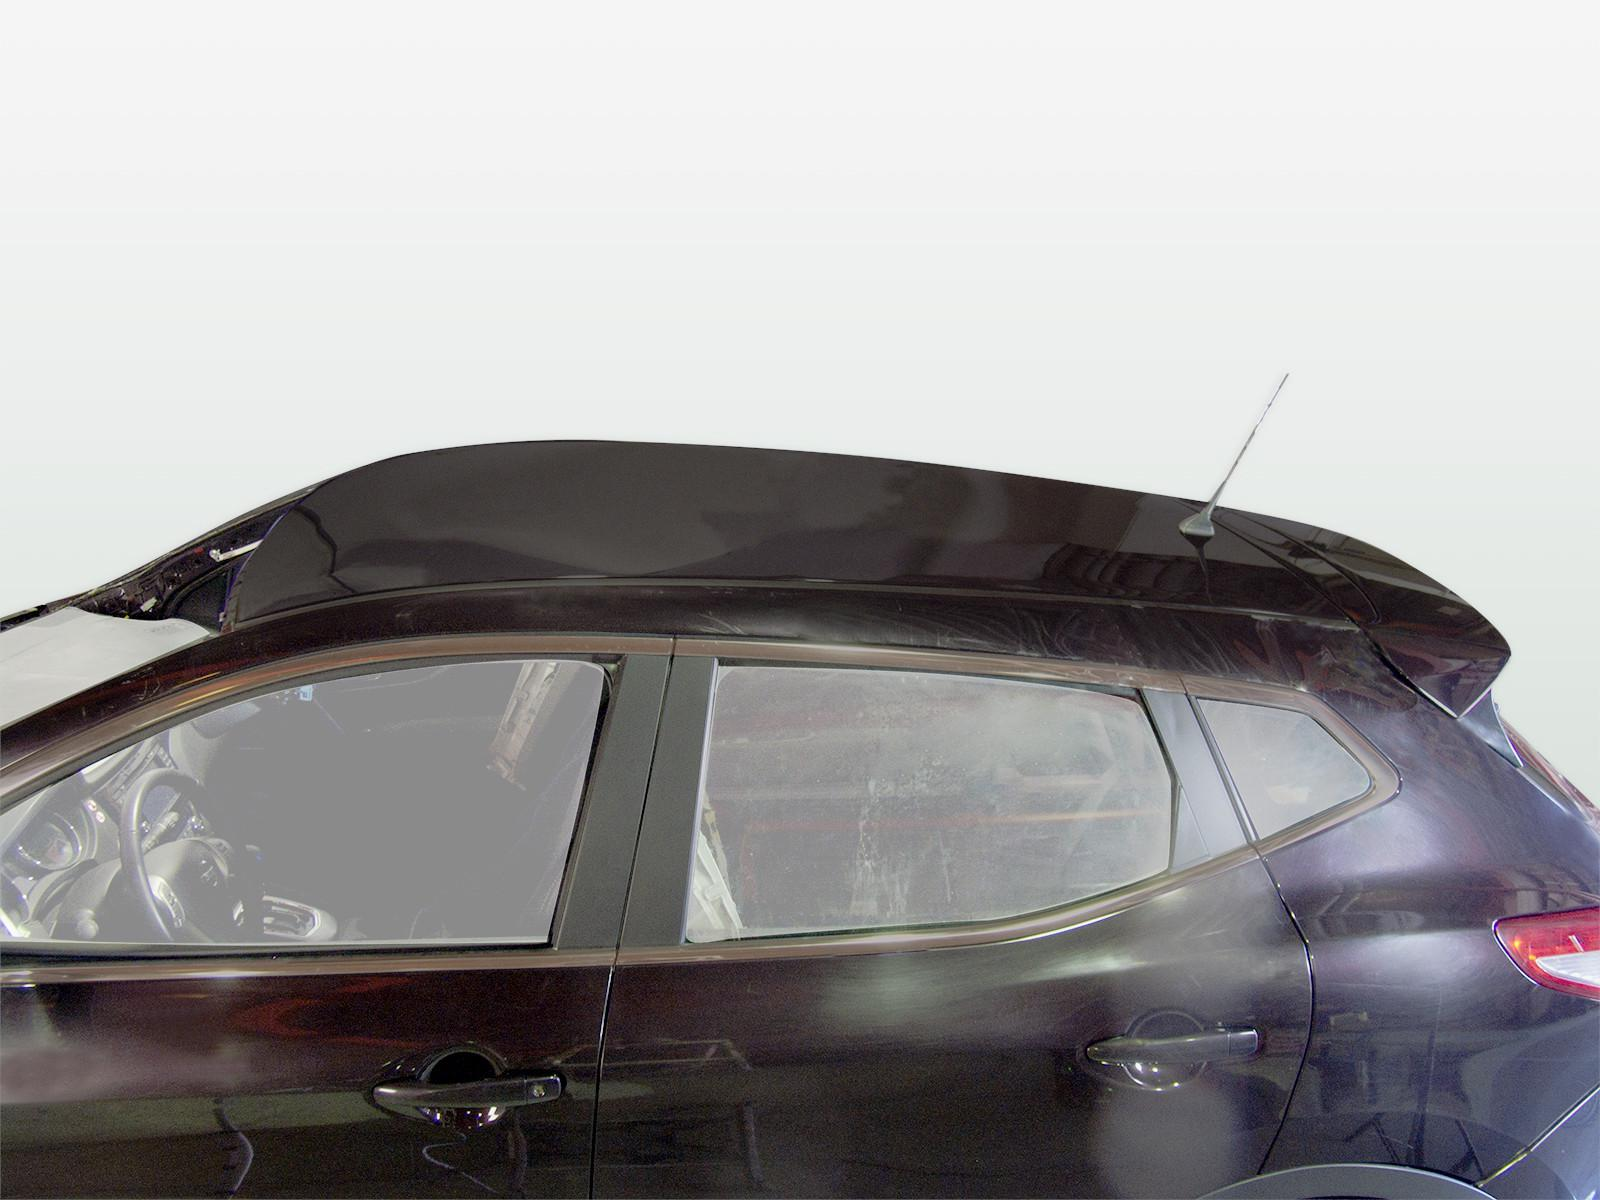roof-dent: (28, 437, 1157, 705)
